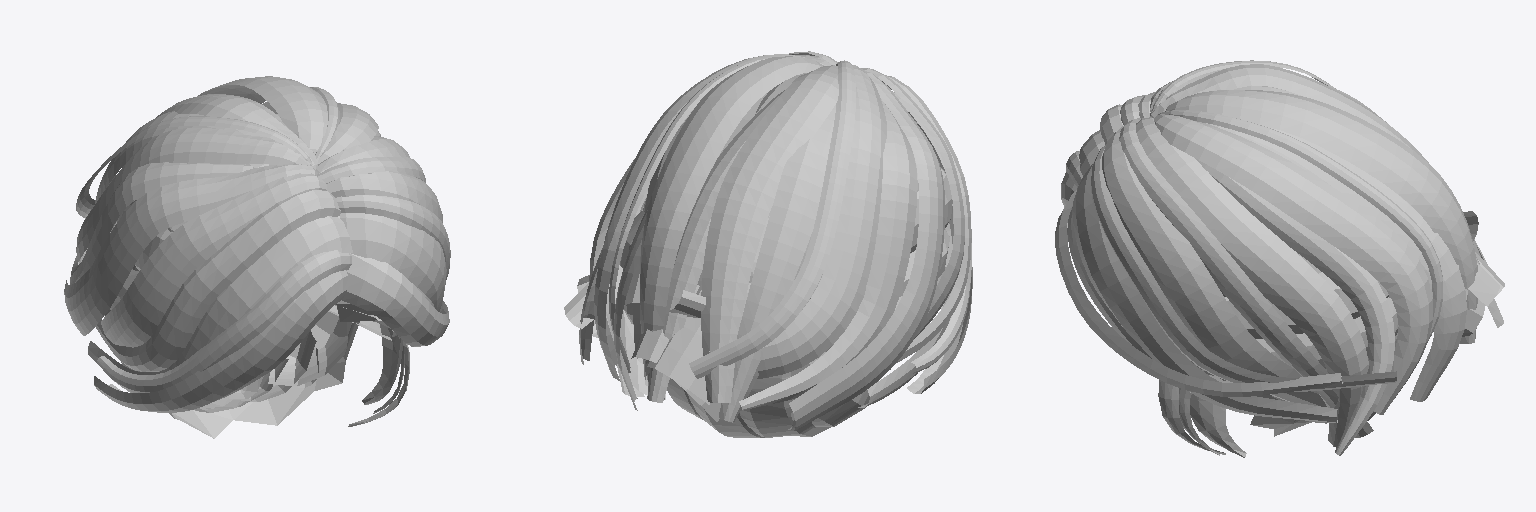
The model's file is hair5.obj.
The picture shows the model from 3 angles: view 1: azimuth 30°, elevation 25°; view 2: azimuth 150°, elevation 25°; view 3: azimuth 270°, elevation 25°; orthographic projection.
Visible parts, largest first — view 1: Hair_10; view 2: Hair_10; view 3: Hair_10.
Part boxes in pixels (x1,y1,x2,y2): Hair_10: (64, 76, 450, 438); Hair_10: (564, 51, 972, 437); Hair_10: (1055, 60, 1504, 457).
Size of the model in its own units: 19.32 by 19.8 by 23.52.